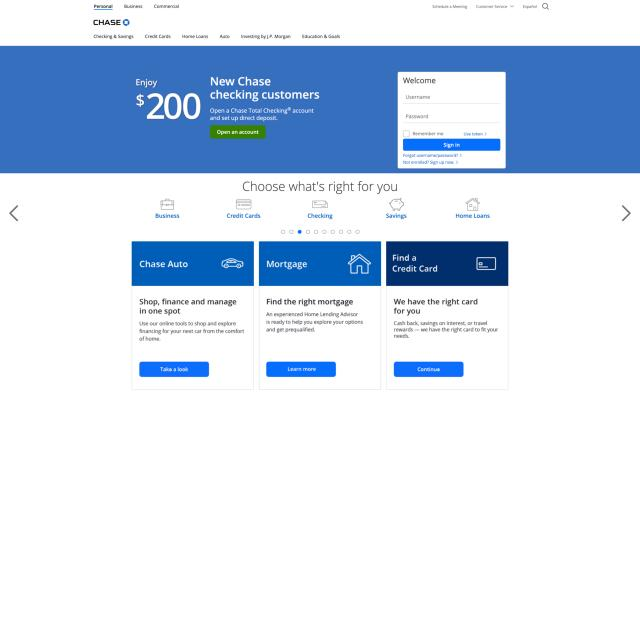CheckBox: (266, 360, 336, 378), (394, 360, 464, 378), (403, 139, 501, 151), (138, 361, 210, 377), (210, 125, 266, 138), (402, 159, 458, 165), (402, 153, 462, 158), (462, 130, 487, 136), (402, 129, 410, 138)
CheckedTextView: (402, 91, 502, 105), (402, 110, 502, 124)
Switch: (0, 173, 640, 392)
alert: (474, 2, 516, 12)
bag: (0, 1, 640, 46)
breadcrumbs: (392, 252, 440, 274), (137, 259, 190, 270), (265, 259, 310, 271), (402, 76, 438, 86)
card: (1, 46, 640, 173)
carousel: (347, 252, 371, 275), (475, 256, 498, 272), (220, 256, 245, 270), (388, 196, 406, 213), (464, 195, 481, 212), (158, 196, 176, 212), (235, 197, 252, 212), (310, 198, 329, 211)
data feed: (216, 128, 261, 136), (159, 364, 190, 374), (286, 365, 318, 373), (415, 365, 441, 374), (412, 130, 444, 137), (405, 112, 429, 120), (405, 93, 430, 100), (443, 142, 460, 149)
date picker: (89, 15, 132, 28)
decoration: (88, 0, 550, 13), (91, 31, 344, 41)
